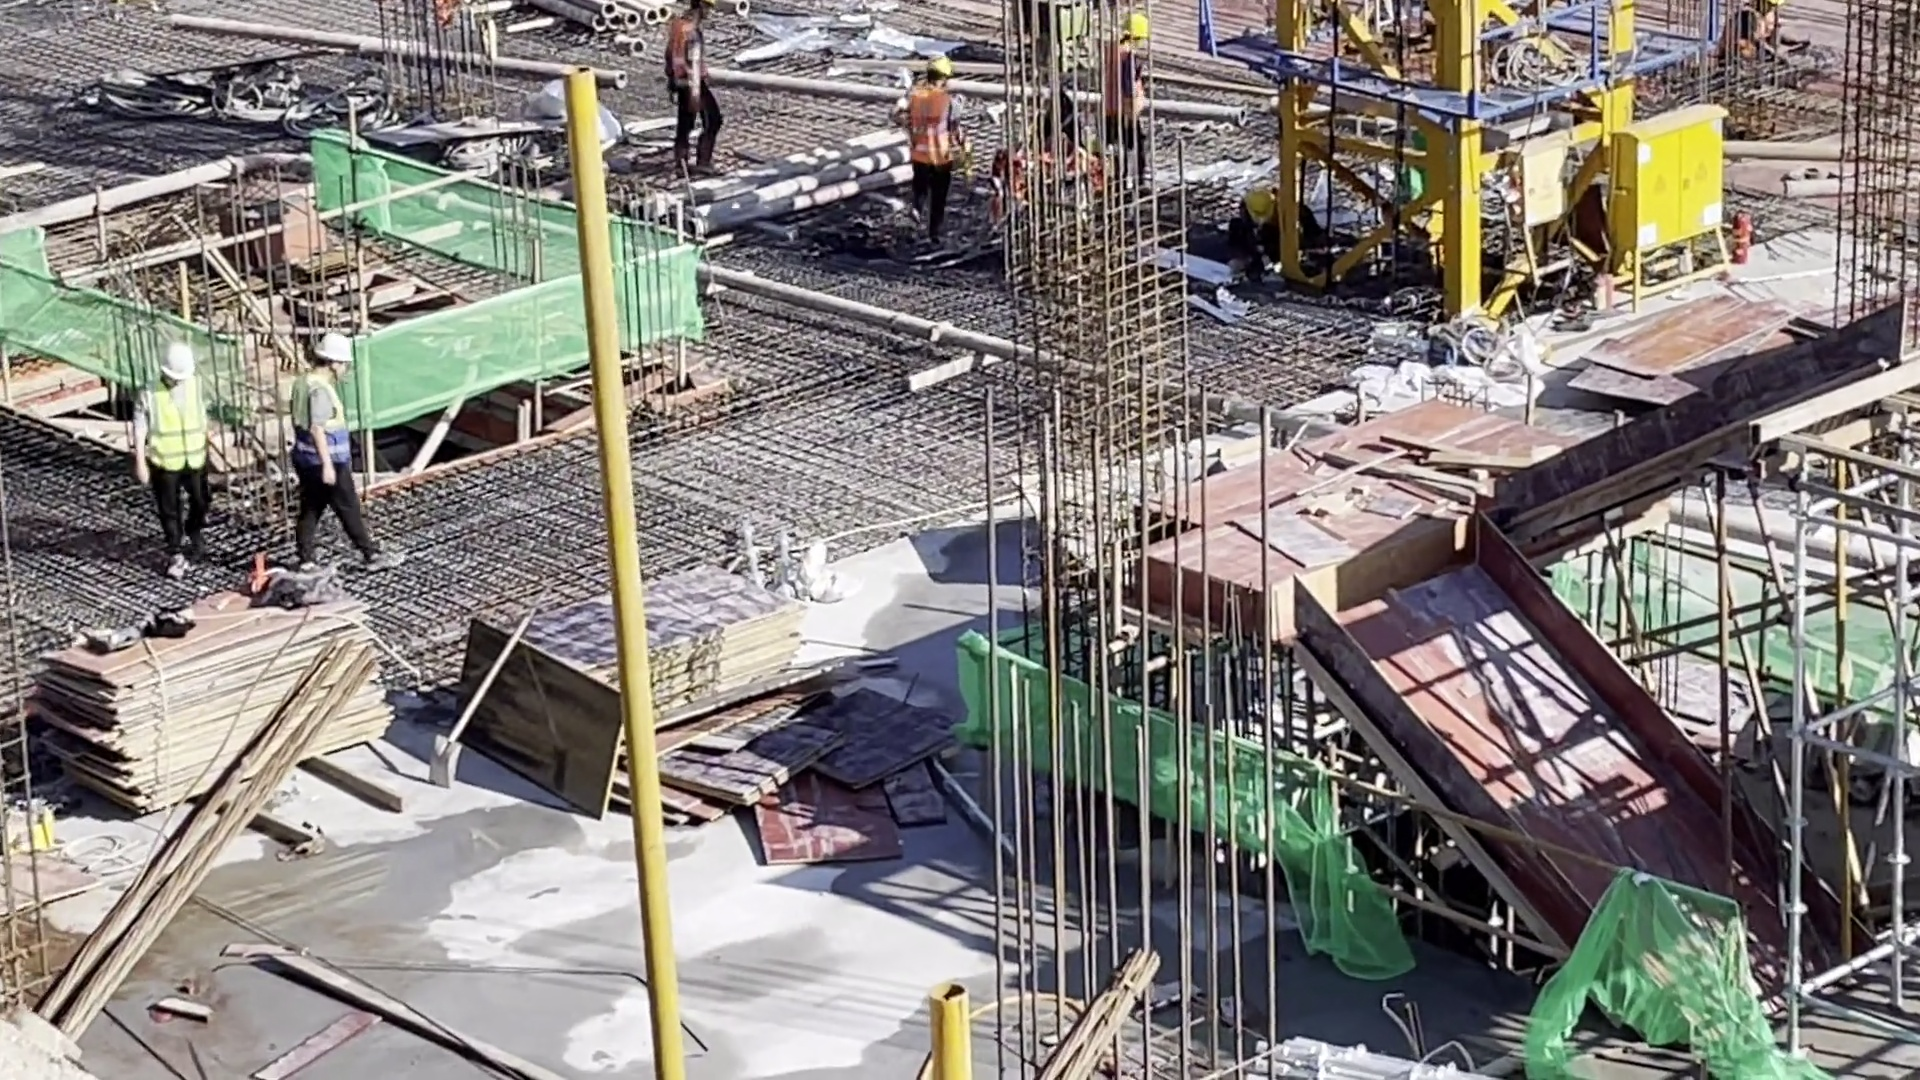board: (33, 588, 396, 810), (509, 565, 809, 720)
ebox: (1602, 103, 1743, 306)
helmet: (155, 335, 194, 384), (310, 332, 351, 366), (1246, 180, 1272, 221), (1120, 14, 1147, 39), (928, 57, 957, 77)
person: (291, 330, 404, 578), (132, 338, 226, 583), (900, 60, 969, 245), (1226, 180, 1321, 305), (663, 5, 726, 178), (1100, 12, 1156, 172), (1714, 2, 1812, 75)
vest: (147, 386, 214, 484), (291, 380, 351, 464), (909, 87, 966, 169), (1106, 40, 1146, 130), (663, 20, 709, 95), (1720, 6, 1773, 61)
